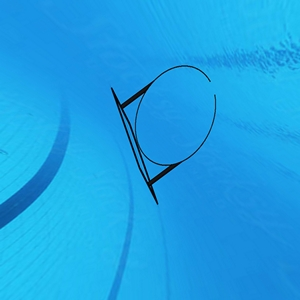circle: (110, 63, 218, 206)
